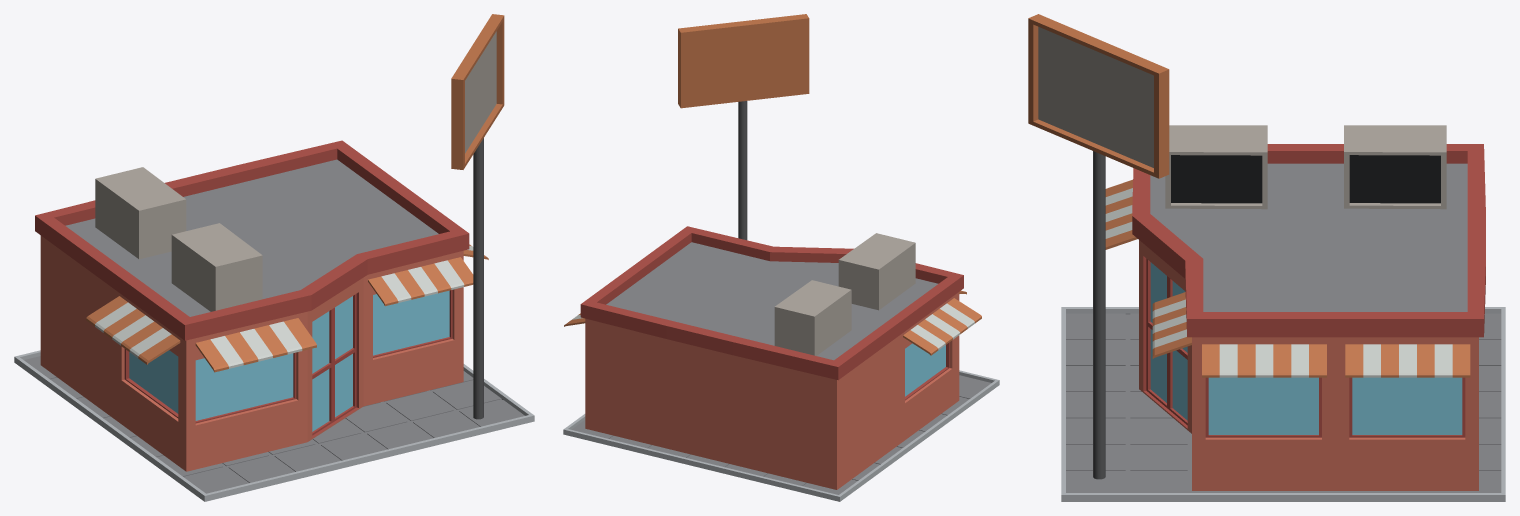
Rendered from SM_bistro_01_A.gltf.
3 renders of one model, left to right at view 1: azimuth 30°, elevation 25°; view 2: azimuth 150°, elevation 25°; view 3: azimuth 270°, elevation 25°, orthographic. The views are drawn at different scales.
Visible parts, largest first — view 1: SM_bistro_01_A; view 2: SM_bistro_01_A; view 3: SM_bistro_01_A.
Part boxes in pixels (x1,y1,x2,y2): SM_bistro_01_A: [14, 14, 534, 501]; SM_bistro_01_A: [563, 14, 999, 501]; SM_bistro_01_A: [1028, 14, 1505, 501].
Bounding box in the file's own units: 4.91 × 4.82 × 4.79.
